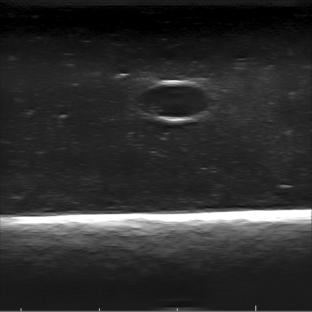vessel: (136, 79, 214, 123)
